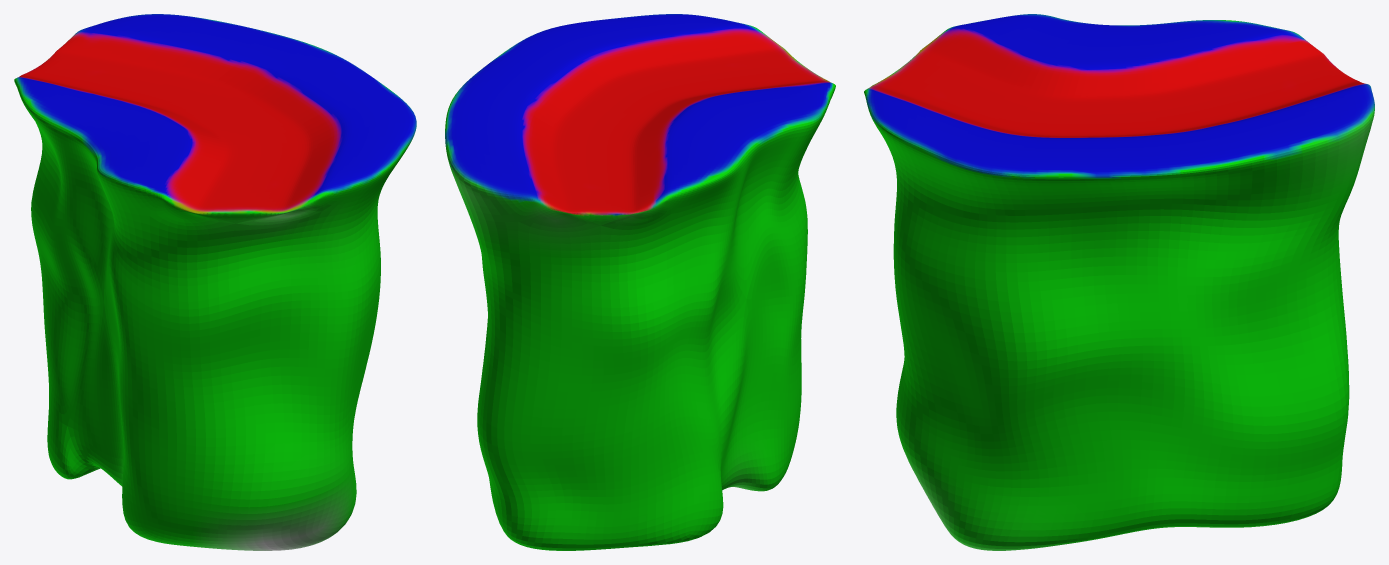
File: level_one_platform_7.fbx
The picture shows the model from 3 angles, left to right: view 1: azimuth 30°, elevation 25°; view 2: azimuth 150°, elevation 25°; view 3: azimuth 270°, elevation 25°; orthographic projection. The views are drawn at different scales.
Parts seen in each view (by area): view 1: Platform05; view 2: Platform05; view 3: Platform05.
Boxes of the visible parts, box(x1,y1,x2,y2) form: Platform05: box(14, 14, 416, 550); Platform05: box(445, 14, 835, 550); Platform05: box(864, 14, 1374, 550).
Size of the model in its own units: 509 by 638 by 681.
